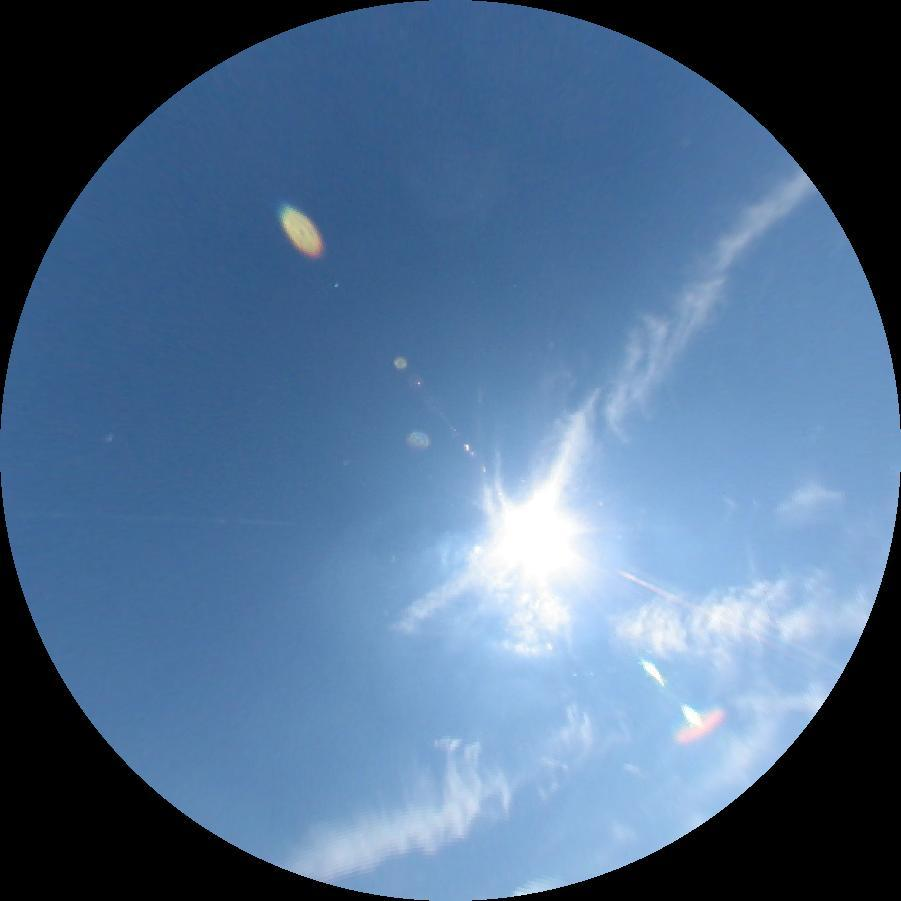contrail veryold: (386, 145, 833, 676)
parasite: (615, 567, 715, 620), (717, 616, 790, 655)
sun: (505, 503, 570, 567)
